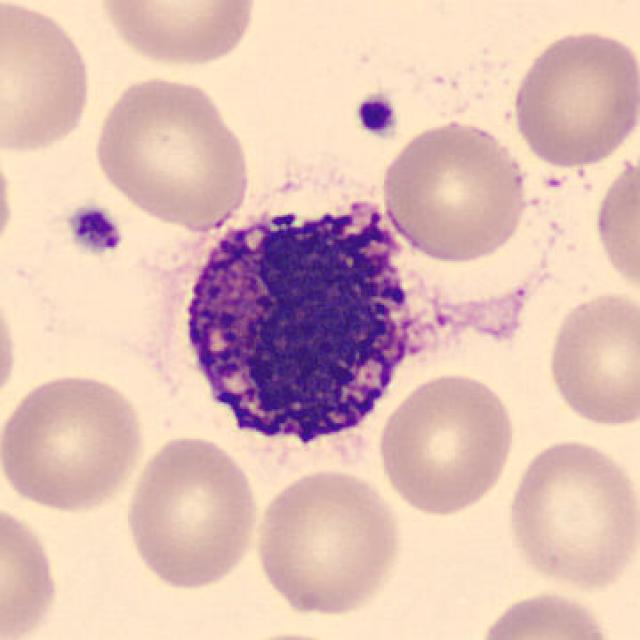Basophil: (162, 183, 464, 476)
Platelets: (62, 203, 126, 257), (350, 90, 400, 139)
RBC: (89, 72, 254, 229), (251, 464, 405, 620), (377, 116, 533, 264), (121, 430, 263, 592), (373, 368, 519, 518), (502, 434, 638, 594), (0, 368, 149, 514), (507, 23, 638, 171), (0, 0, 96, 159), (542, 286, 638, 430), (94, 0, 263, 69), (0, 497, 62, 640), (471, 587, 619, 640), (590, 148, 640, 300), (0, 277, 23, 416), (0, 140, 18, 266), (224, 627, 359, 640)
